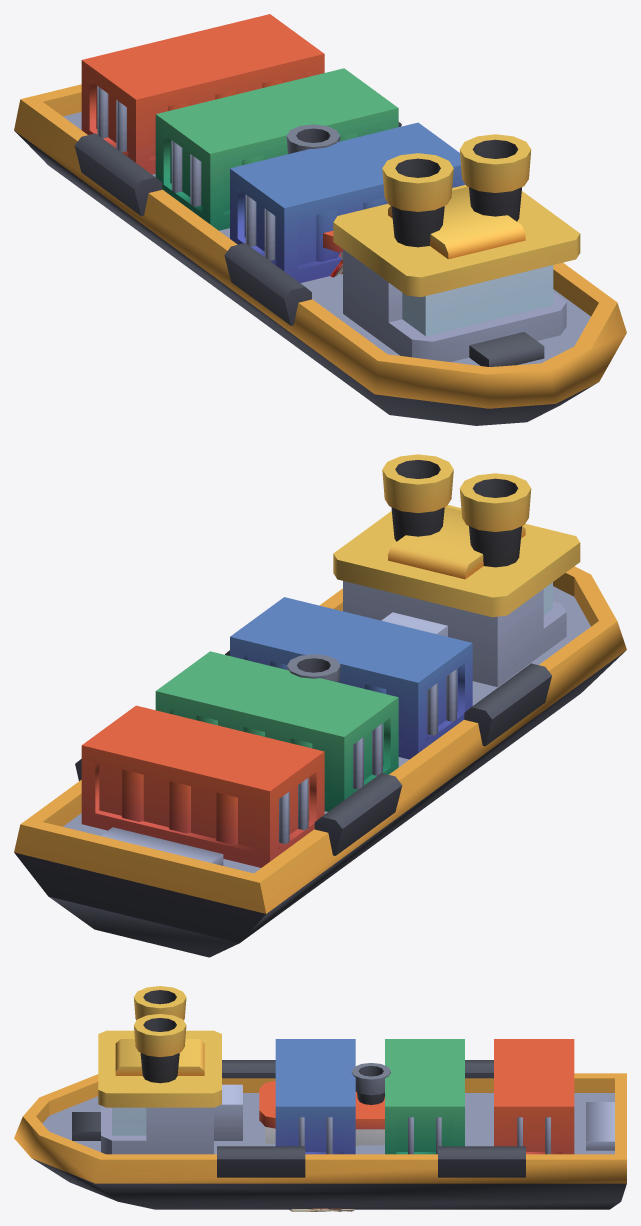
Rendered from town.glb.
The picture shows the model from 3 angles, top to bottom: view 1: azimuth 30°, elevation 25°; view 2: azimuth 150°, elevation 25°; view 3: azimuth 270°, elevation 25°; orthographic projection. The views are drawn at different scales.
Visible parts, largest first — view 1: ship_cargo_body, tug_body; view 2: ship_cargo_body, tug_body; view 3: ship_cargo_body, tug_body.
Boxes of the visible parts, x1,y1,x2,y2 form: ship_cargo_body: (14,14,626,425); tug_body: (286,124,342,260); ship_cargo_body: (14,454,626,957); tug_body: (287,654,340,682); ship_cargo_body: (14,986,626,1209); tug_body: (259,1063,390,1145).
Size of the model in its own units: 3.92 by 3.38 by 10.55.
Materials: 16 (16 with a texture image).
